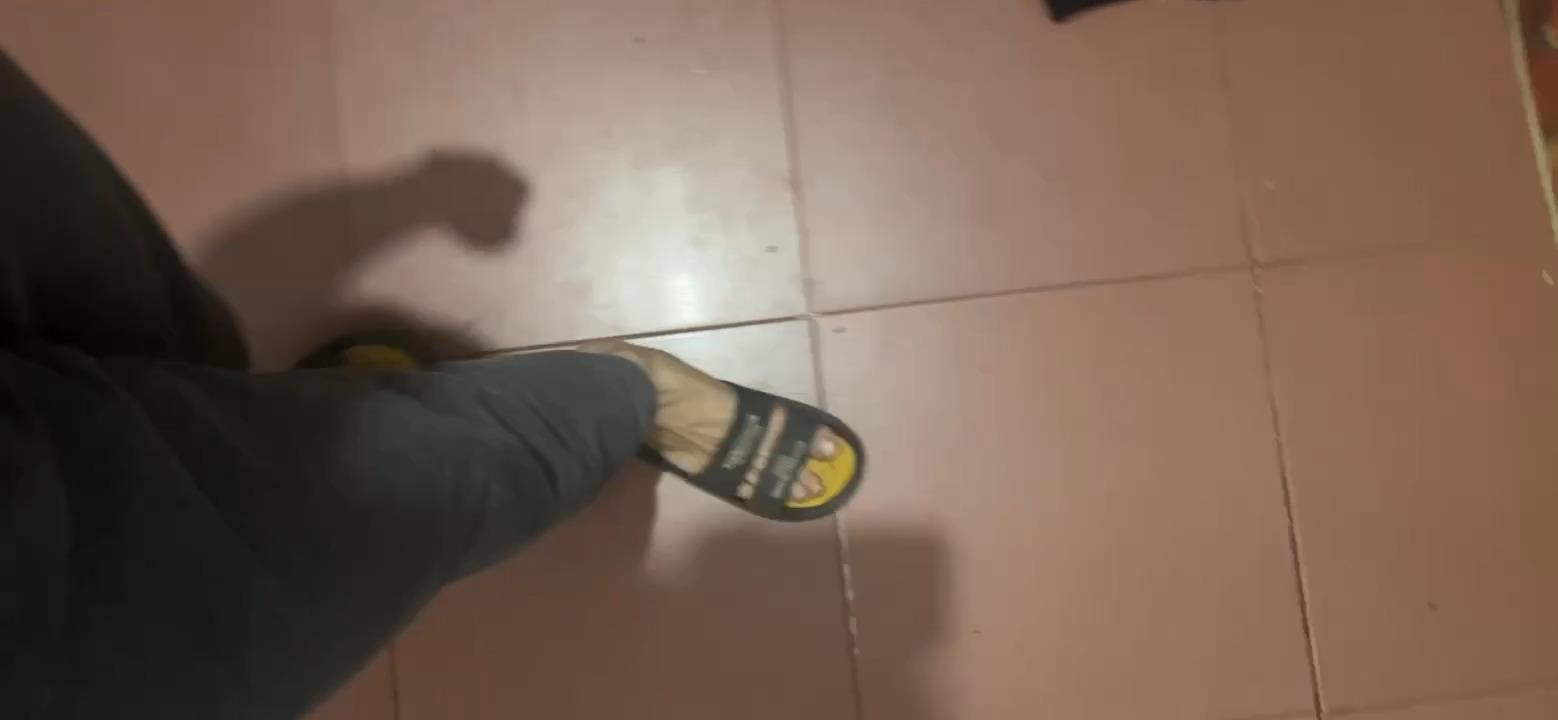no-boot: (561, 333, 879, 525)
